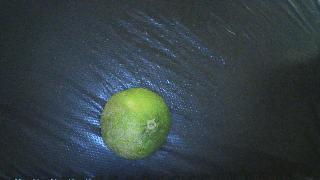DESECHO: (100, 88, 171, 159)
